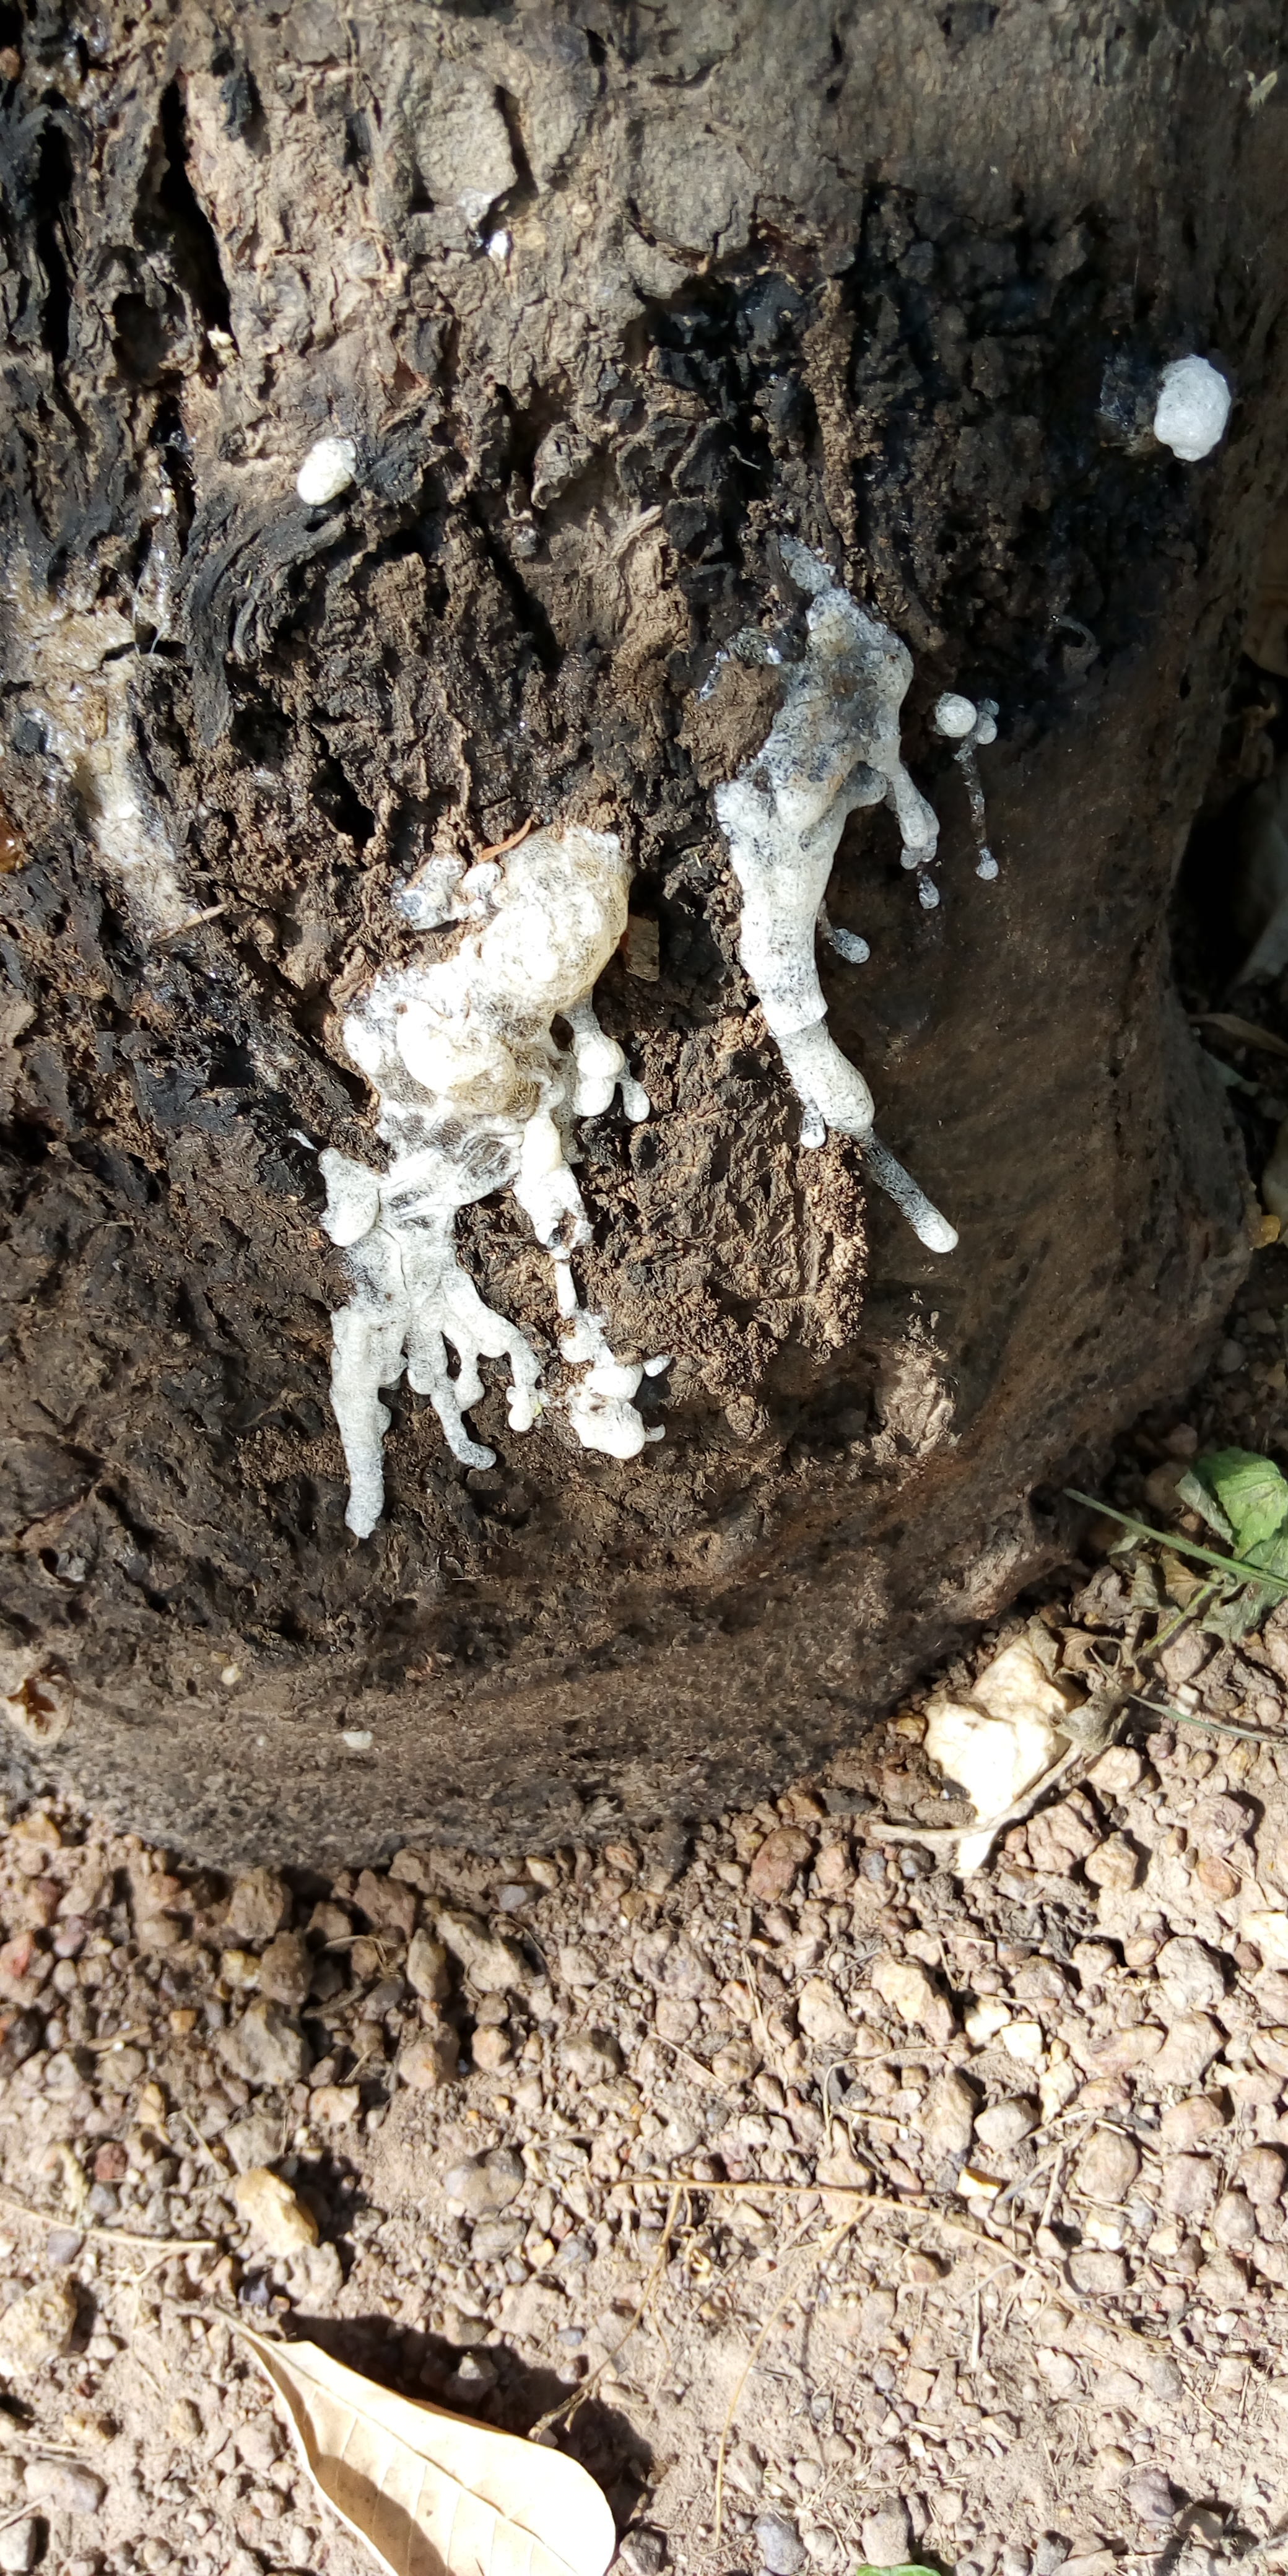Gommose: (3, 194, 1173, 1692)
